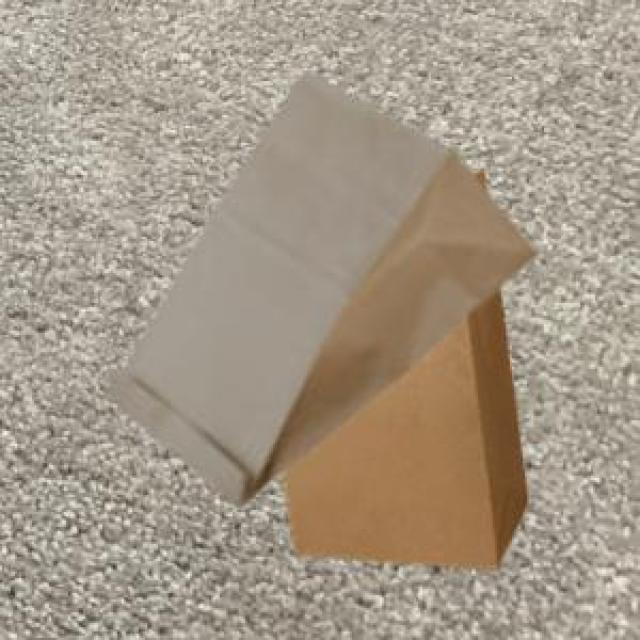paper: (105, 70, 531, 501), (280, 165, 523, 565)
